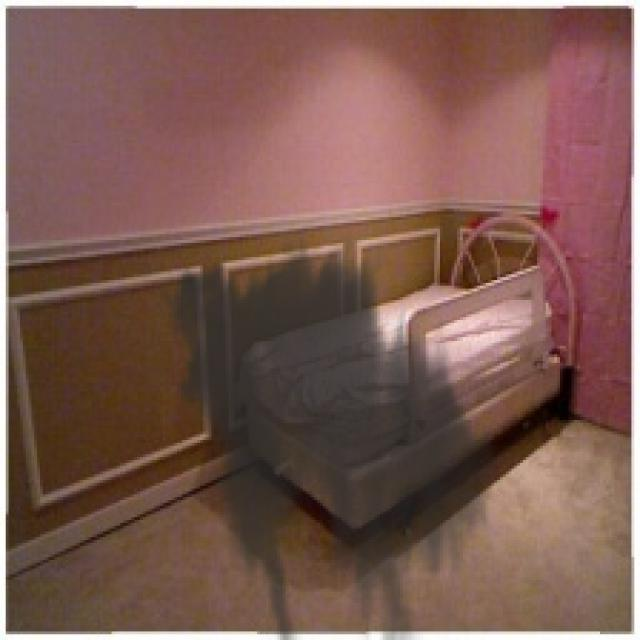Smoke: (152, 228, 512, 638)
